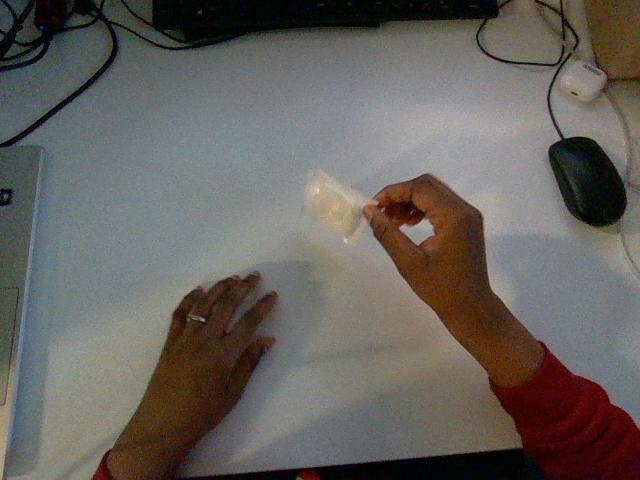gauze: (303, 170, 377, 244)
